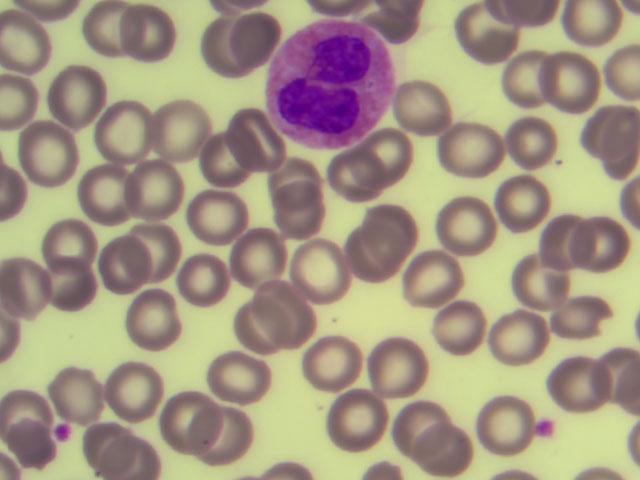Platelets: (531, 415, 562, 441), (52, 423, 73, 441)
RBC: (82, 415, 141, 480), (430, 415, 489, 480), (46, 63, 105, 127), (20, 127, 79, 191), (95, 99, 154, 163), (157, 95, 216, 159), (199, 129, 258, 193), (225, 109, 284, 173), (127, 158, 186, 222), (82, 162, 141, 226), (124, 221, 183, 285), (92, 233, 151, 297), (39, 207, 98, 271), (40, 253, 99, 317), (5, 259, 64, 323), (43, 350, 102, 414), (1, 376, 60, 440), (100, 359, 159, 423), (124, 286, 183, 350), (164, 388, 223, 452), (188, 410, 247, 474), (205, 346, 264, 410), (225, 297, 284, 361), (258, 280, 317, 344), (229, 230, 288, 294), (182, 247, 241, 311), (186, 181, 245, 245), (276, 188, 335, 252), (265, 150, 324, 214), (324, 147, 383, 211), (362, 126, 421, 190), (398, 77, 457, 141), (442, 116, 501, 180), (508, 112, 567, 176), (496, 164, 555, 228), (435, 196, 494, 260), (362, 202, 421, 266), (342, 229, 401, 293), (402, 250, 461, 314), (424, 296, 483, 360), (369, 336, 428, 400), (308, 327, 367, 391), (322, 386, 381, 450), (391, 390, 450, 454), (469, 392, 528, 456), (488, 309, 547, 373), (556, 288, 615, 352), (547, 350, 606, 414), (513, 247, 572, 311), (535, 212, 594, 276), (566, 213, 625, 277), (581, 114, 640, 178), (532, 51, 591, 115), (506, 47, 565, 111), (456, 4, 515, 68), (188, 17, 247, 81), (221, 11, 280, 75), (120, 6, 179, 70), (88, 2, 147, 66), (2, 10, 61, 74), (564, 1, 623, 64)
WBC: (274, 22, 396, 145)
